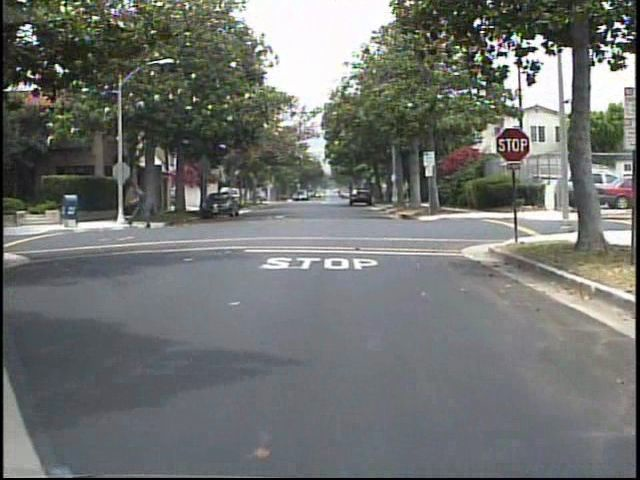person: (128, 178, 153, 233)
